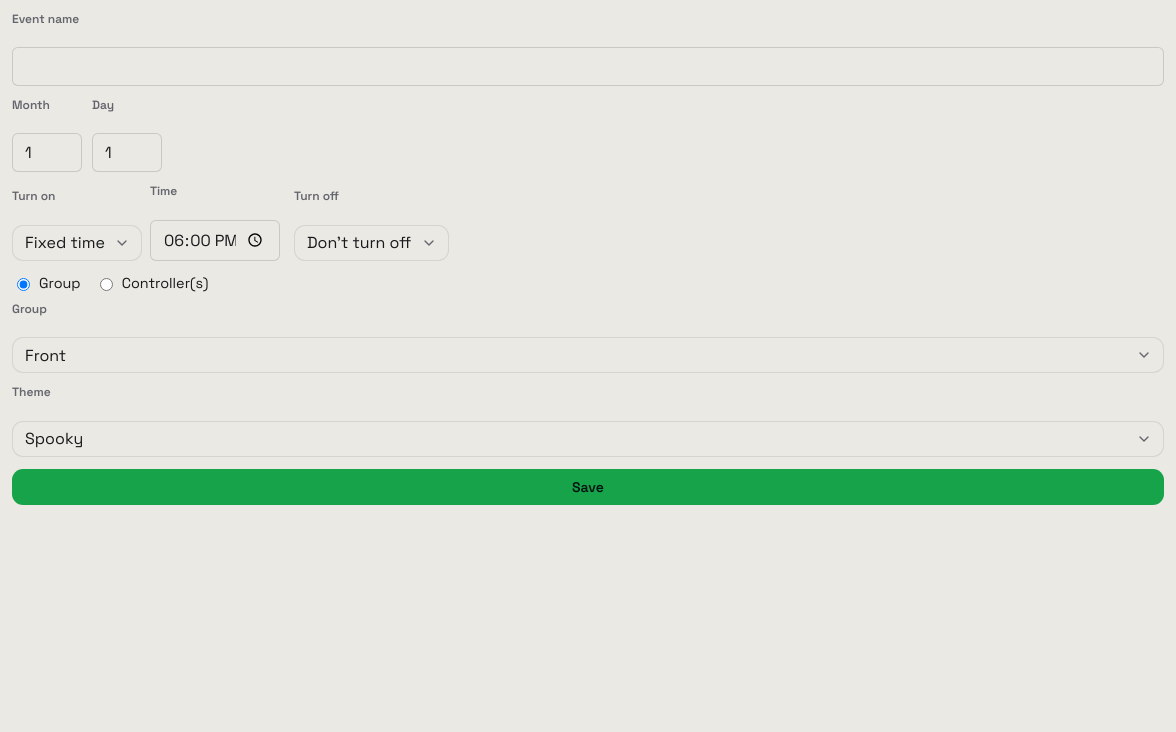
Scenario: CalendarEventForm v2 › surfaces a 409 conflict as an inline error
This screenshot has width=1176, height=732.
Step 1. Click the button "Save" → (588,486), box [12,468,1164,504]
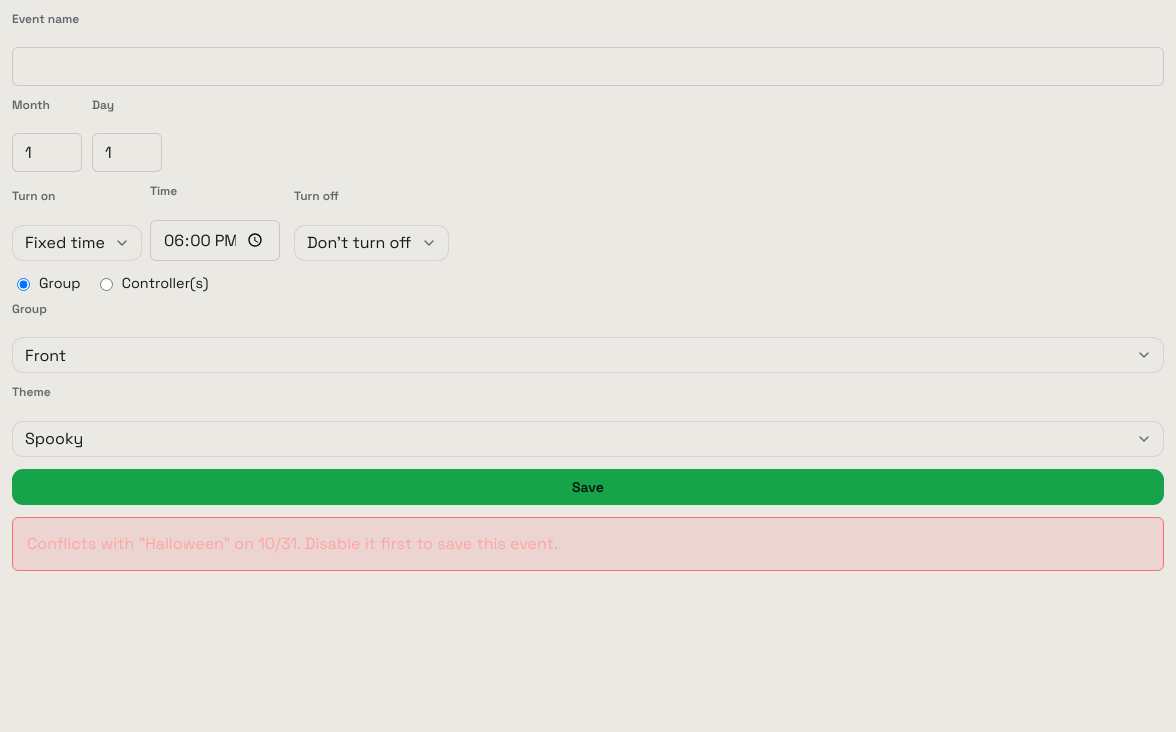
Now the message shows "Halloween", box [27,532,558,554]
